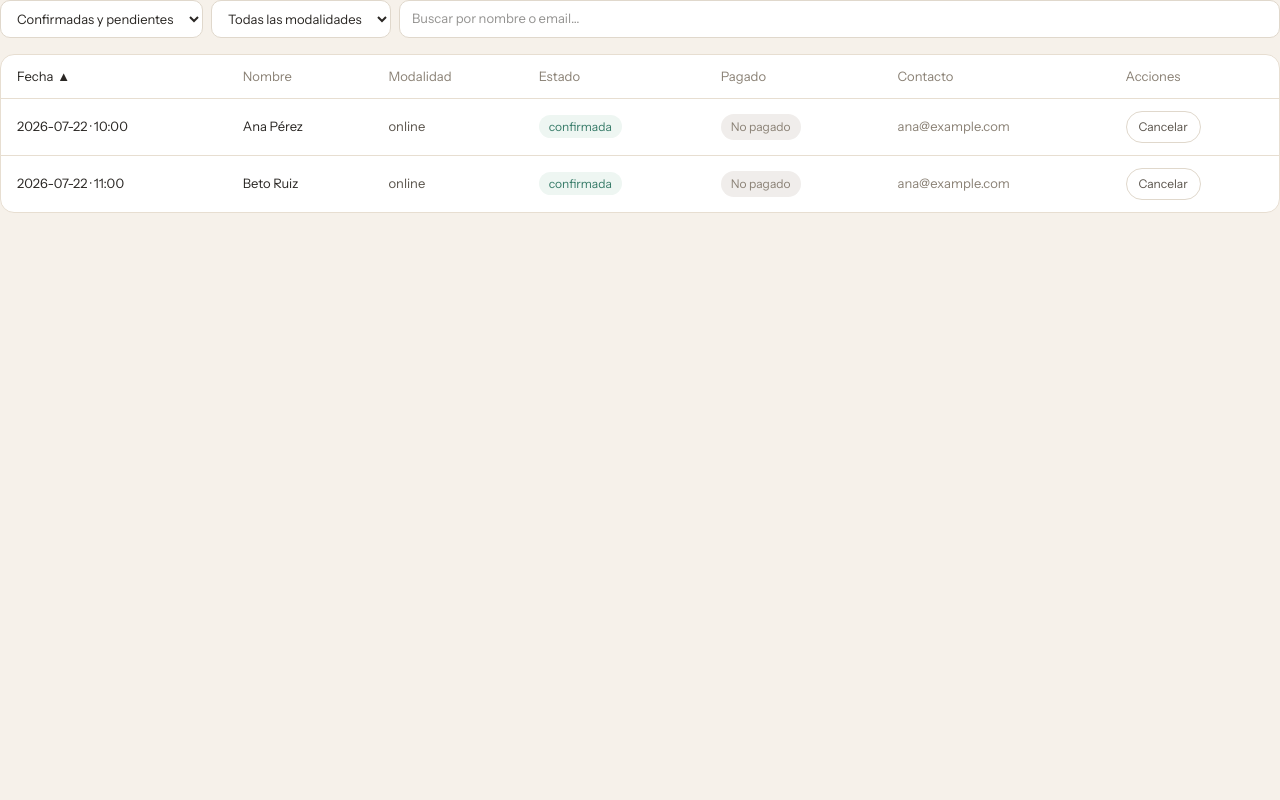
CitasTabla — detalle al clickear la fila › abre el detalle correspondiente a la fila clickeada
The width and height of the screenshot is (1280, 800).
Click the text "Beto Ruiz" at (52, 183), box [1, 156, 1279, 212]
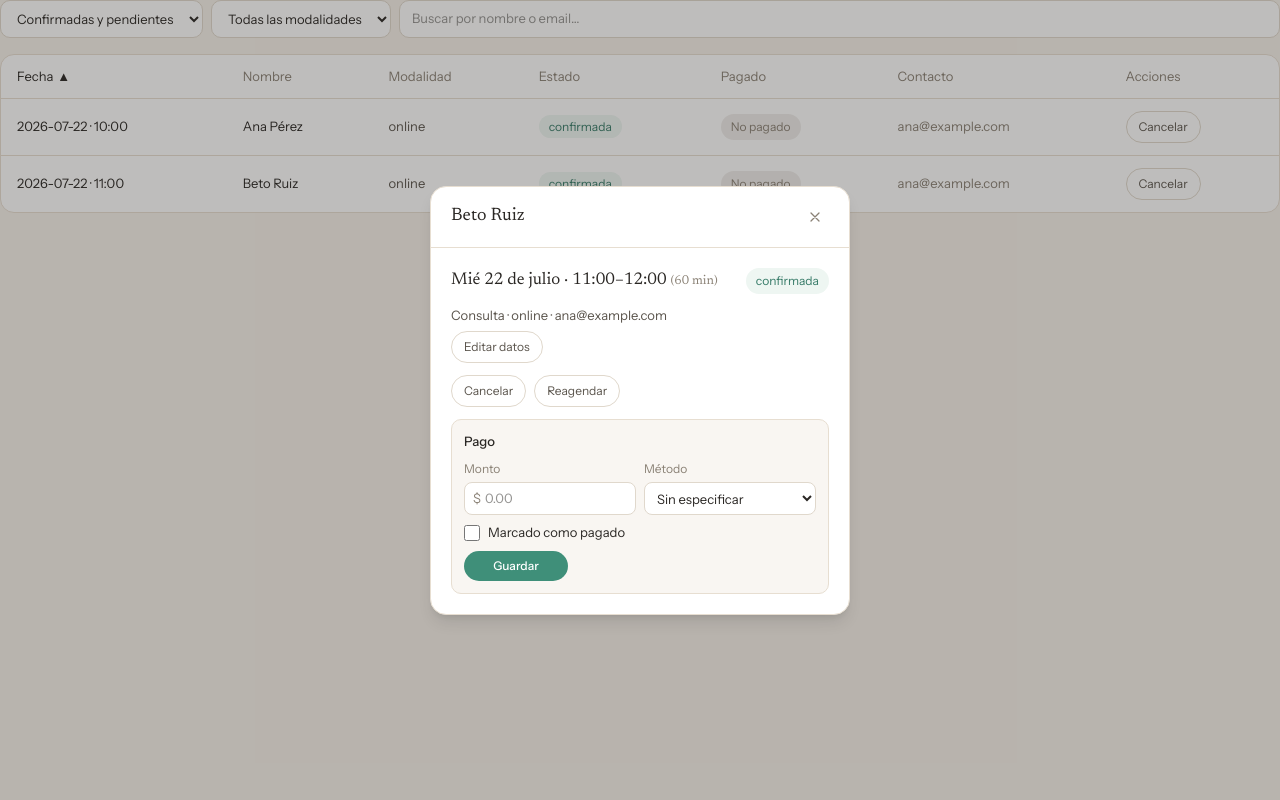
Expected: the heading "Beto Ruiz" is shown, [451, 203, 525, 230]
